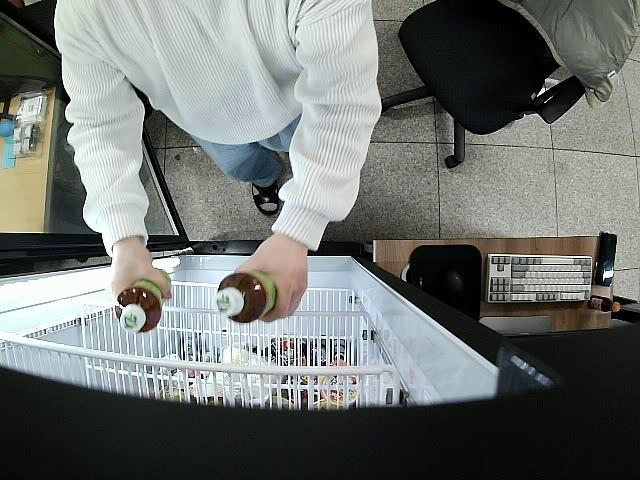19_17cha: (211, 270, 277, 326), (115, 267, 173, 328)
